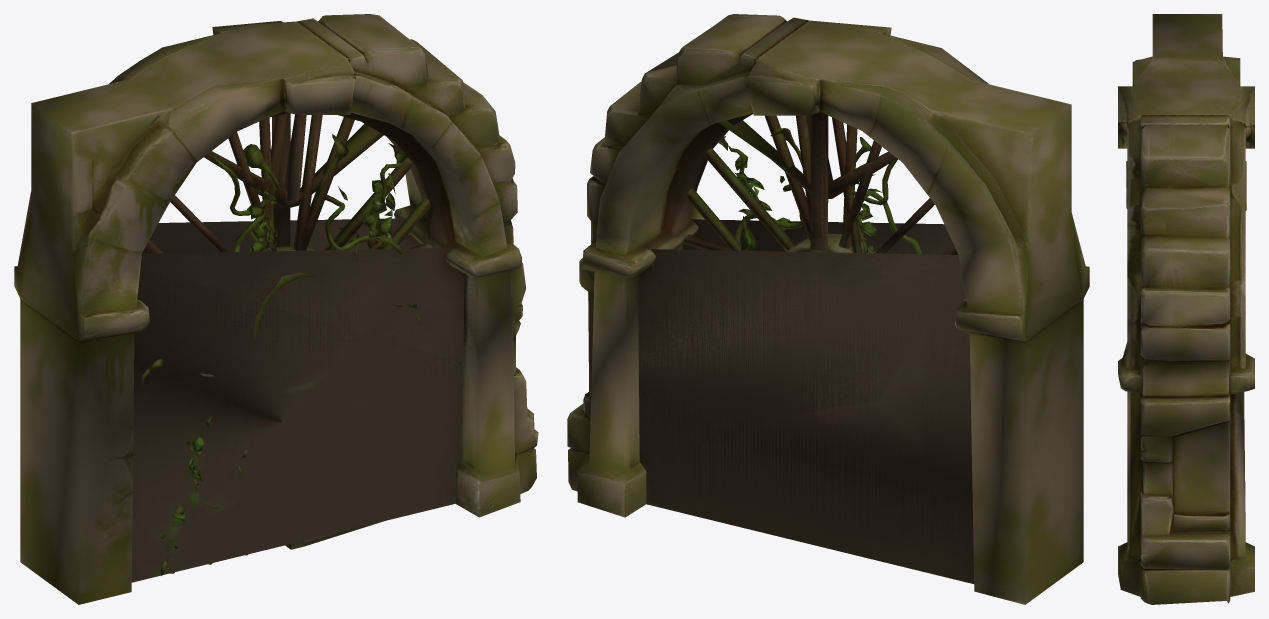
The model's file is 019e647d-74b1-7602-beec-1d6660bcd837.glb.
The picture shows the model from 3 angles, left to right: view 1: azimuth 30°, elevation 25°; view 2: azimuth 150°, elevation 25°; view 3: azimuth 270°, elevation 25°; orthographic projection. The views are drawn at different scales.
Visible parts, largest first — view 1: tripo_node_79834cde-e45b-4fc0-a2e7-99dba0cf5fcb; view 2: tripo_node_79834cde-e45b-4fc0-a2e7-99dba0cf5fcb; view 3: tripo_node_79834cde-e45b-4fc0-a2e7-99dba0cf5fcb.
Boxes of the visible parts, x1,y1,x2,y2 form: tripo_node_79834cde-e45b-4fc0-a2e7-99dba0cf5fcb: [14, 14, 538, 604]; tripo_node_79834cde-e45b-4fc0-a2e7-99dba0cf5fcb: [567, 14, 1089, 604]; tripo_node_79834cde-e45b-4fc0-a2e7-99dba0cf5fcb: [1118, 14, 1254, 604].
Bounding box in the file's own units: 0.9902 × 0.998 × 0.2949.
Materials: 1 (1 with a texture image).
